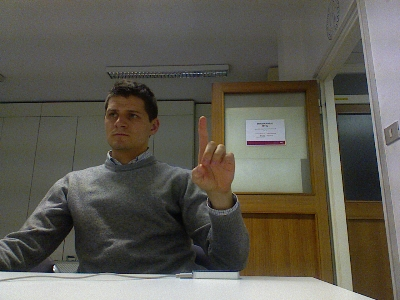食指: (190, 116, 235, 195)
